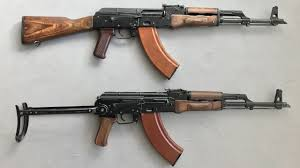gun: (14, 86, 291, 167), (19, 2, 288, 80)
